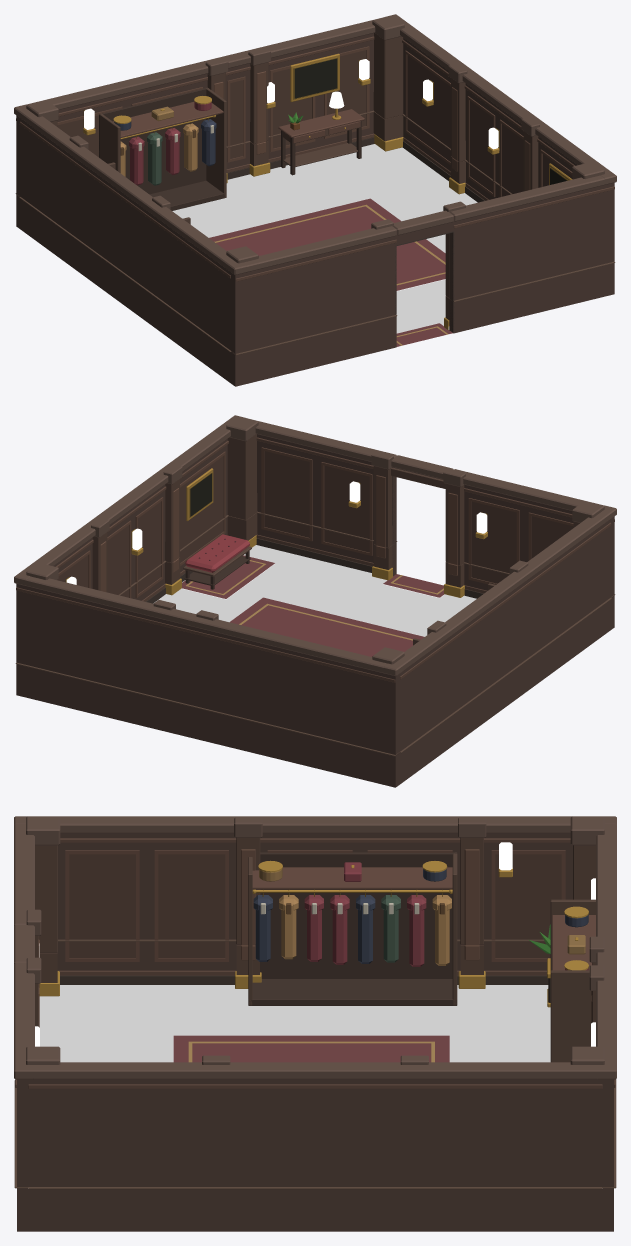
File: cloakroom.glb
3 renders of one model, top to bottom at view 1: azimuth 30°, elevation 25°; view 2: azimuth 150°, elevation 25°; view 3: azimuth 270°, elevation 25°, orthographic. The views are drawn at different scales.
Visible parts, largest first — view 1: static, floor, W_north_0_up, W_west_0_up, W_south_0_up, W_south_1_up, W_east_0_up; view 2: W_north_0_up, static, W_west_0_up, floor, W_south_1_up, W_east_0_up, W_south_0_up; view 3: static, W_east_0_up, W_west_0_up, floor, W_north_0_up, W_south_0_up, W_south_1_up.
Boxes of the visible parts, x1,y1,x2,y2 form: static: (15, 87, 615, 386); floor: (172, 144, 477, 346); W_north_0_up: (14, 15, 404, 196); W_west_0_up: (14, 104, 246, 350); W_south_0_up: (226, 210, 453, 353); W_south_1_up: (443, 162, 616, 300); W_east_0_up: (385, 14, 616, 193); W_north_0_up: (14, 563, 404, 754); static: (15, 493, 615, 787); W_west_0_up: (384, 505, 616, 751); floor: (153, 545, 476, 656); W_south_1_up: (226, 416, 396, 547); W_east_0_up: (14, 415, 245, 594); W_south_0_up: (391, 455, 616, 597); static: (14, 852, 616, 1231); W_east_0_up: (14, 1055, 616, 1186); W_west_0_up: (14, 816, 616, 945); floor: (39, 985, 550, 1062); W_north_0_up: (570, 816, 616, 1186); W_south_0_up: (14, 816, 60, 987); W_south_1_up: (14, 957, 60, 1186).
Size of the model in its own units: 8.08 by 2.48 by 8.08.
